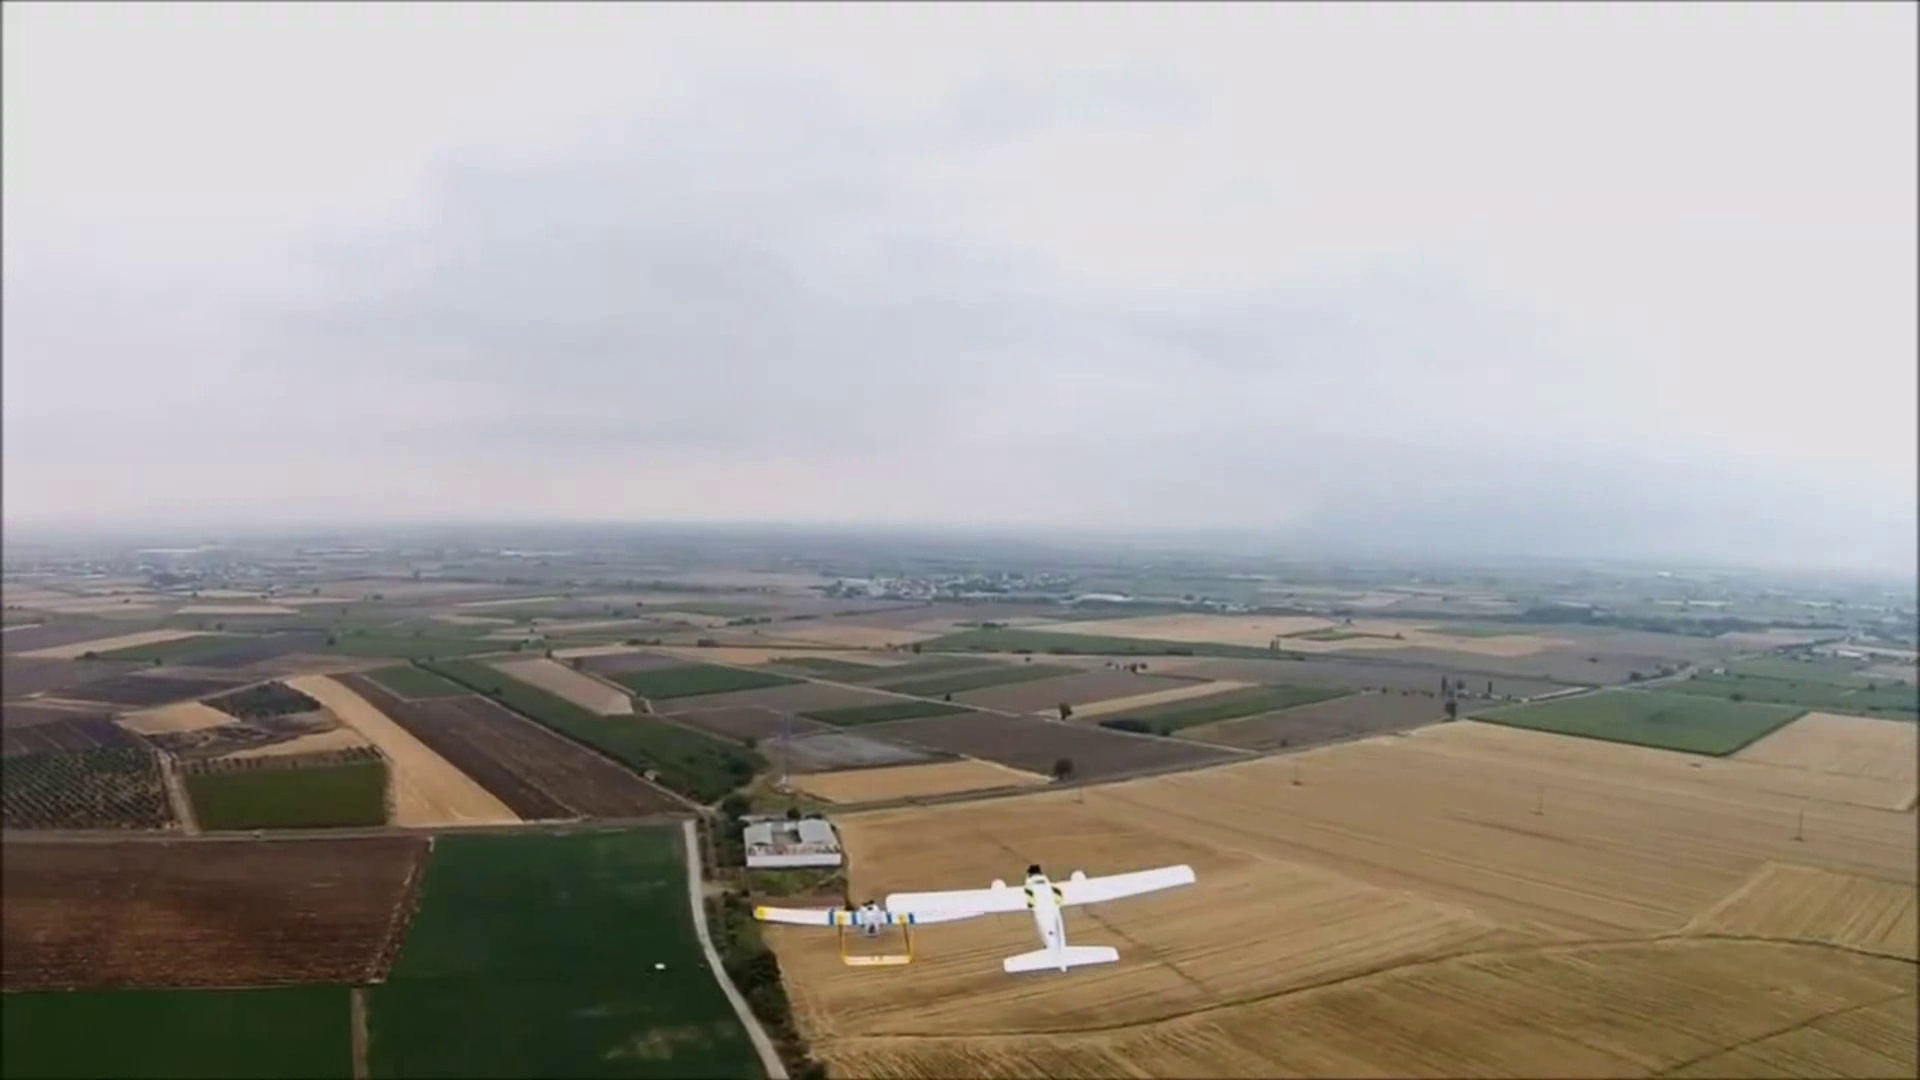airplane: (844, 858, 1196, 975)
